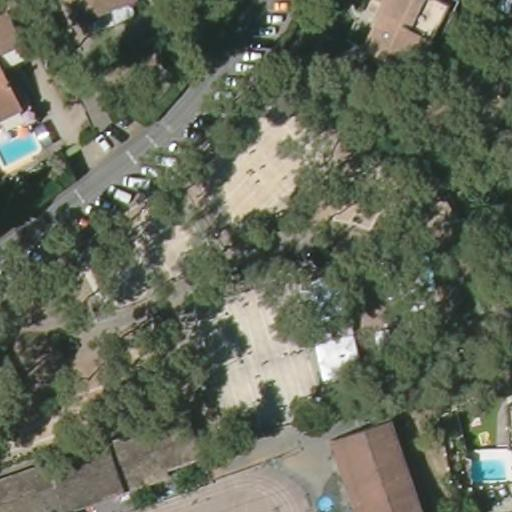pool: (0, 131, 47, 171), (465, 450, 511, 485), (312, 488, 341, 511)
